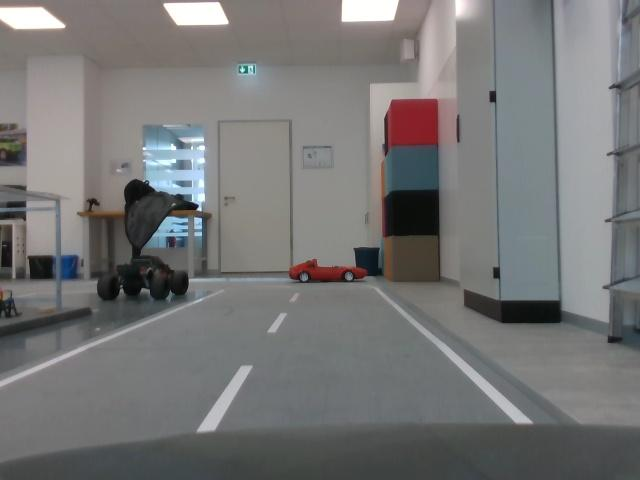car: (97, 252, 195, 308), (291, 257, 371, 289)
person: (2, 286, 33, 322)
